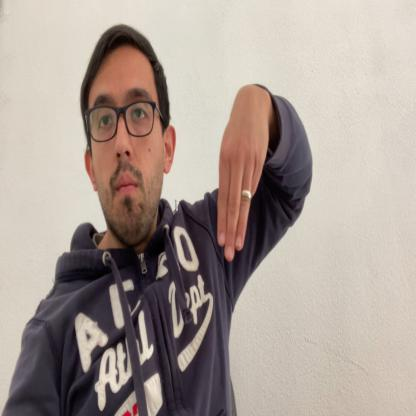M: (217, 82, 270, 261)
